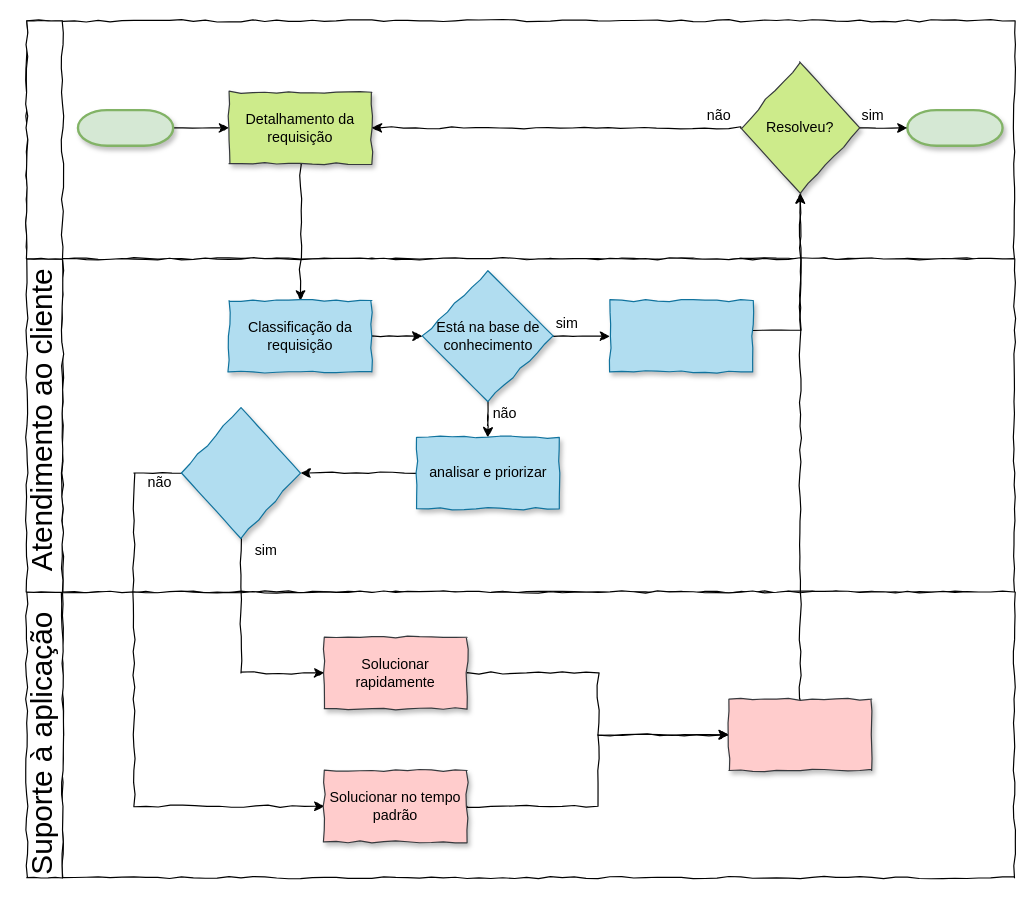
Image size: 1035x898. Some labels were removed from this diagram. Here are the shapes that lost their labels. From the top down, the centre of each, then its label:
At pixel 44 139: "Cliente".
At pixel 682 337: "envio da resposta de 1º nível".
At pixel 242 474: "É prioridade?".
At pixel 801 736: "Resposta de 2º nível".
